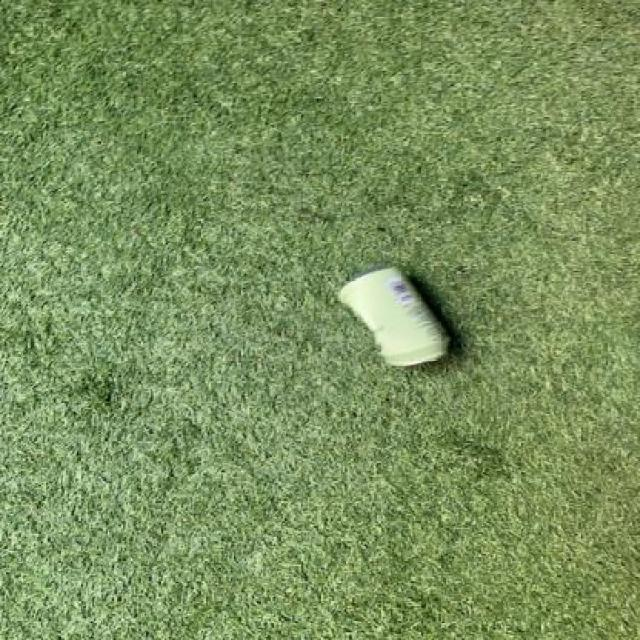trash: (335, 270, 456, 372)
